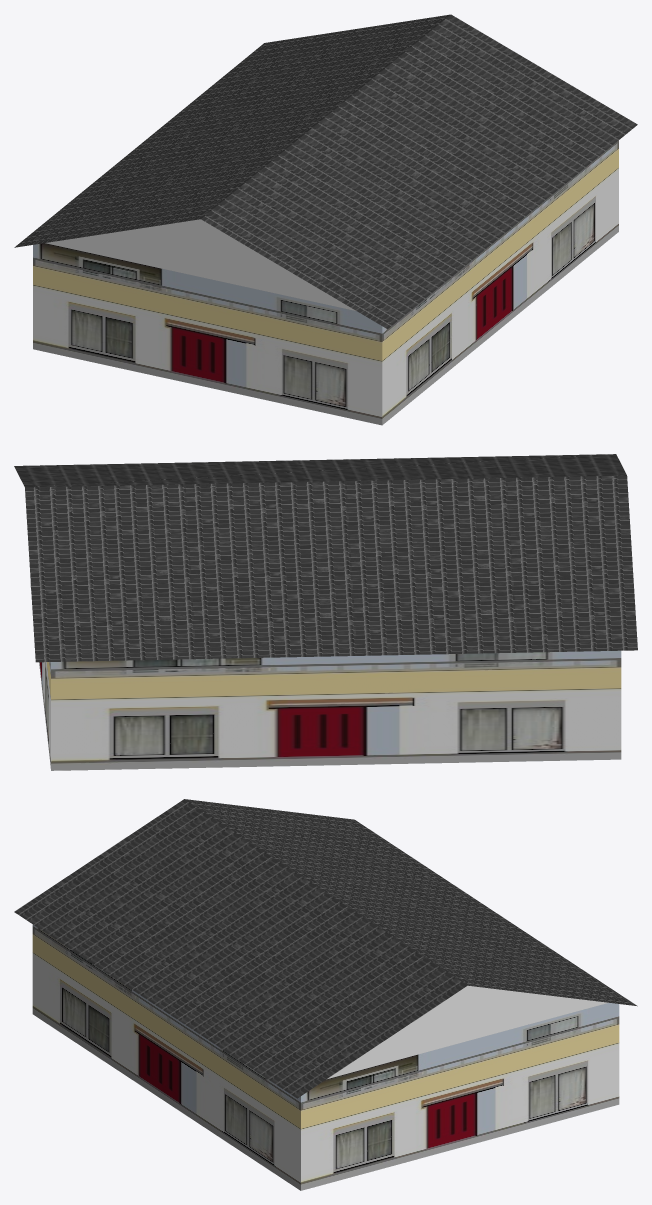
3 renders of one model, top to bottom at view 1: azimuth 30°, elevation 25°; view 2: azimuth 150°, elevation 25°; view 3: azimuth 270°, elevation 25°, orthographic. The views are drawn at different scales.
Parts seen in each view (by area): view 1: CityEngineMaterial_16_m, CityEngineMaterial_15_m, CityEngineMaterial_3_m; view 2: CityEngineMaterial_16_m, CityEngineMaterial_15_m; view 3: CityEngineMaterial_16_m, CityEngineMaterial_15_m, CityEngineMaterial_3_m.
Boxes of the visible parts, <box> form: CityEngineMaterial_16_m: <box>14,14,637,329</box>; CityEngineMaterial_15_m: <box>33,140,618,425</box>; CityEngineMaterial_3_m: <box>45,219,355,310</box>; CityEngineMaterial_16_m: <box>14,454,637,662</box>; CityEngineMaterial_15_m: <box>30,584,621,770</box>; CityEngineMaterial_16_m: <box>14,799,637,1098</box>; CityEngineMaterial_15_m: <box>32,924,619,1190</box>; CityEngineMaterial_3_m: <box>327,985,608,1078</box>.
Size of the model in its own units: 47.13 by 13.16 by 44.55.
